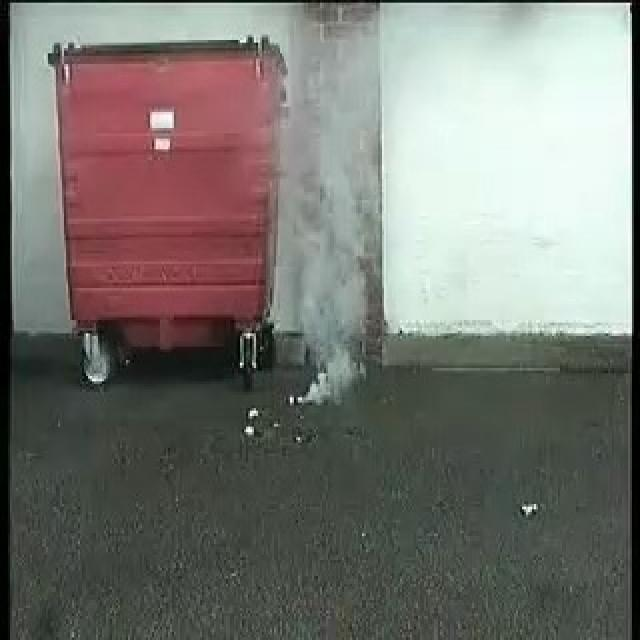smoke: (280, 31, 390, 405)
